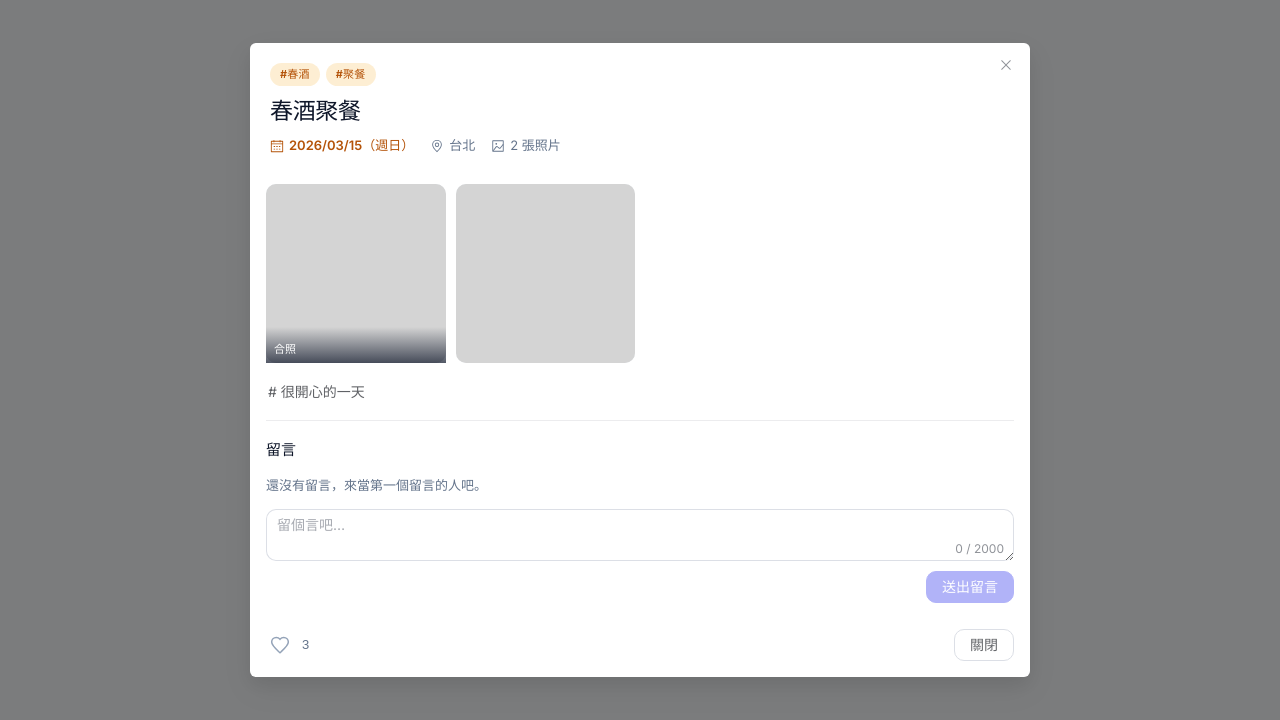
Scenario: EventDetailDialog — likes › opens the likers dialog and lists who liked
What coordinates should you click on to do the following:
click the button with test id "like-count"
I would click on:
 (306, 645)
Its box is x1=298 y1=635 x2=313 y2=654.
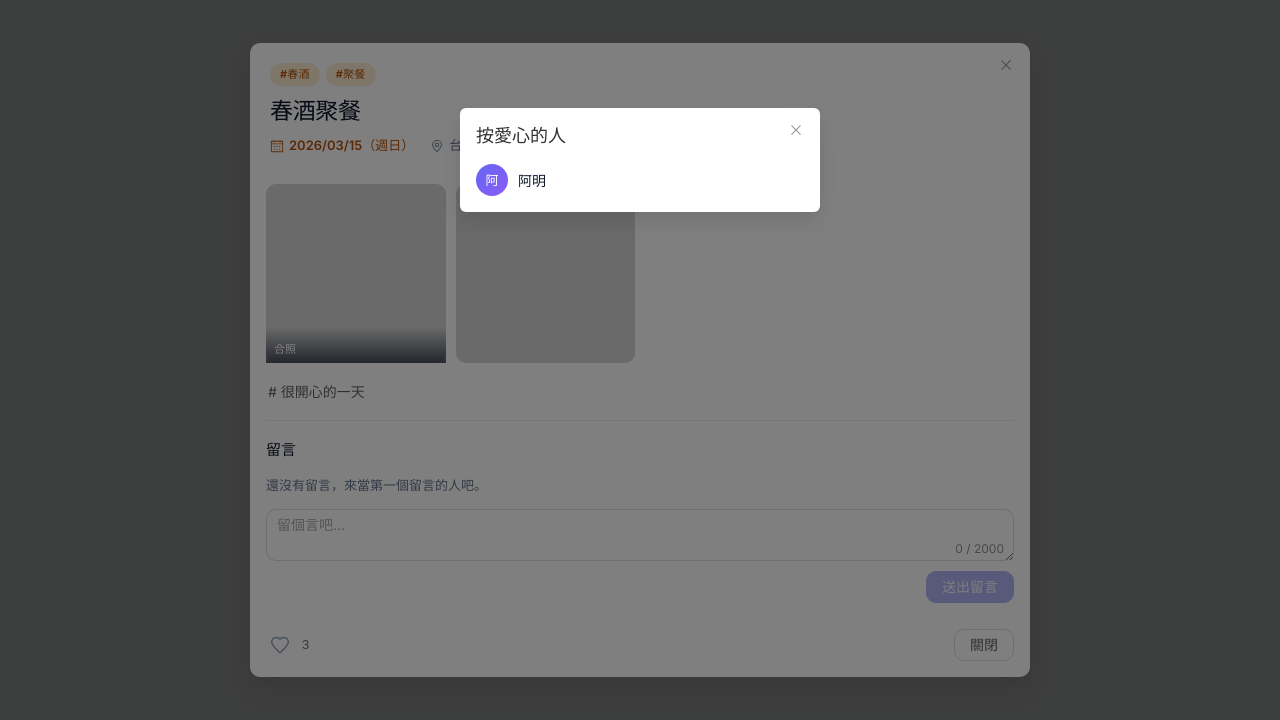
Check: the list item with test id "liker-item" shows "阿明", box x1=518 y1=172 x2=546 y2=188
